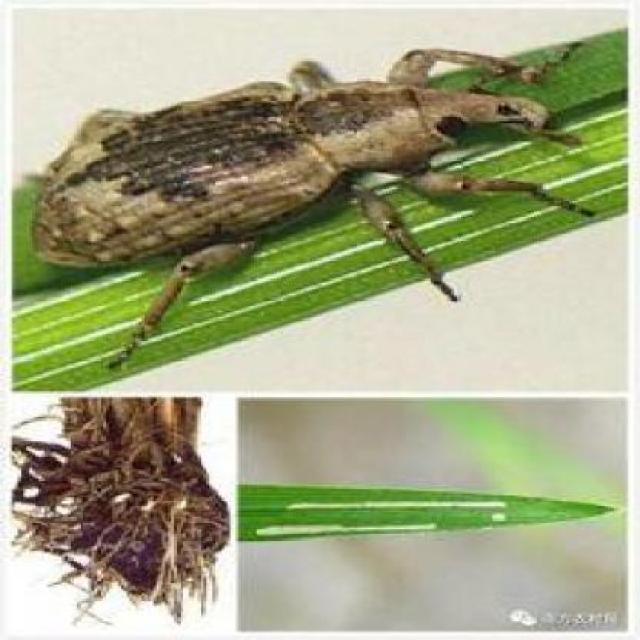rice-bug: (27, 37, 595, 280)
